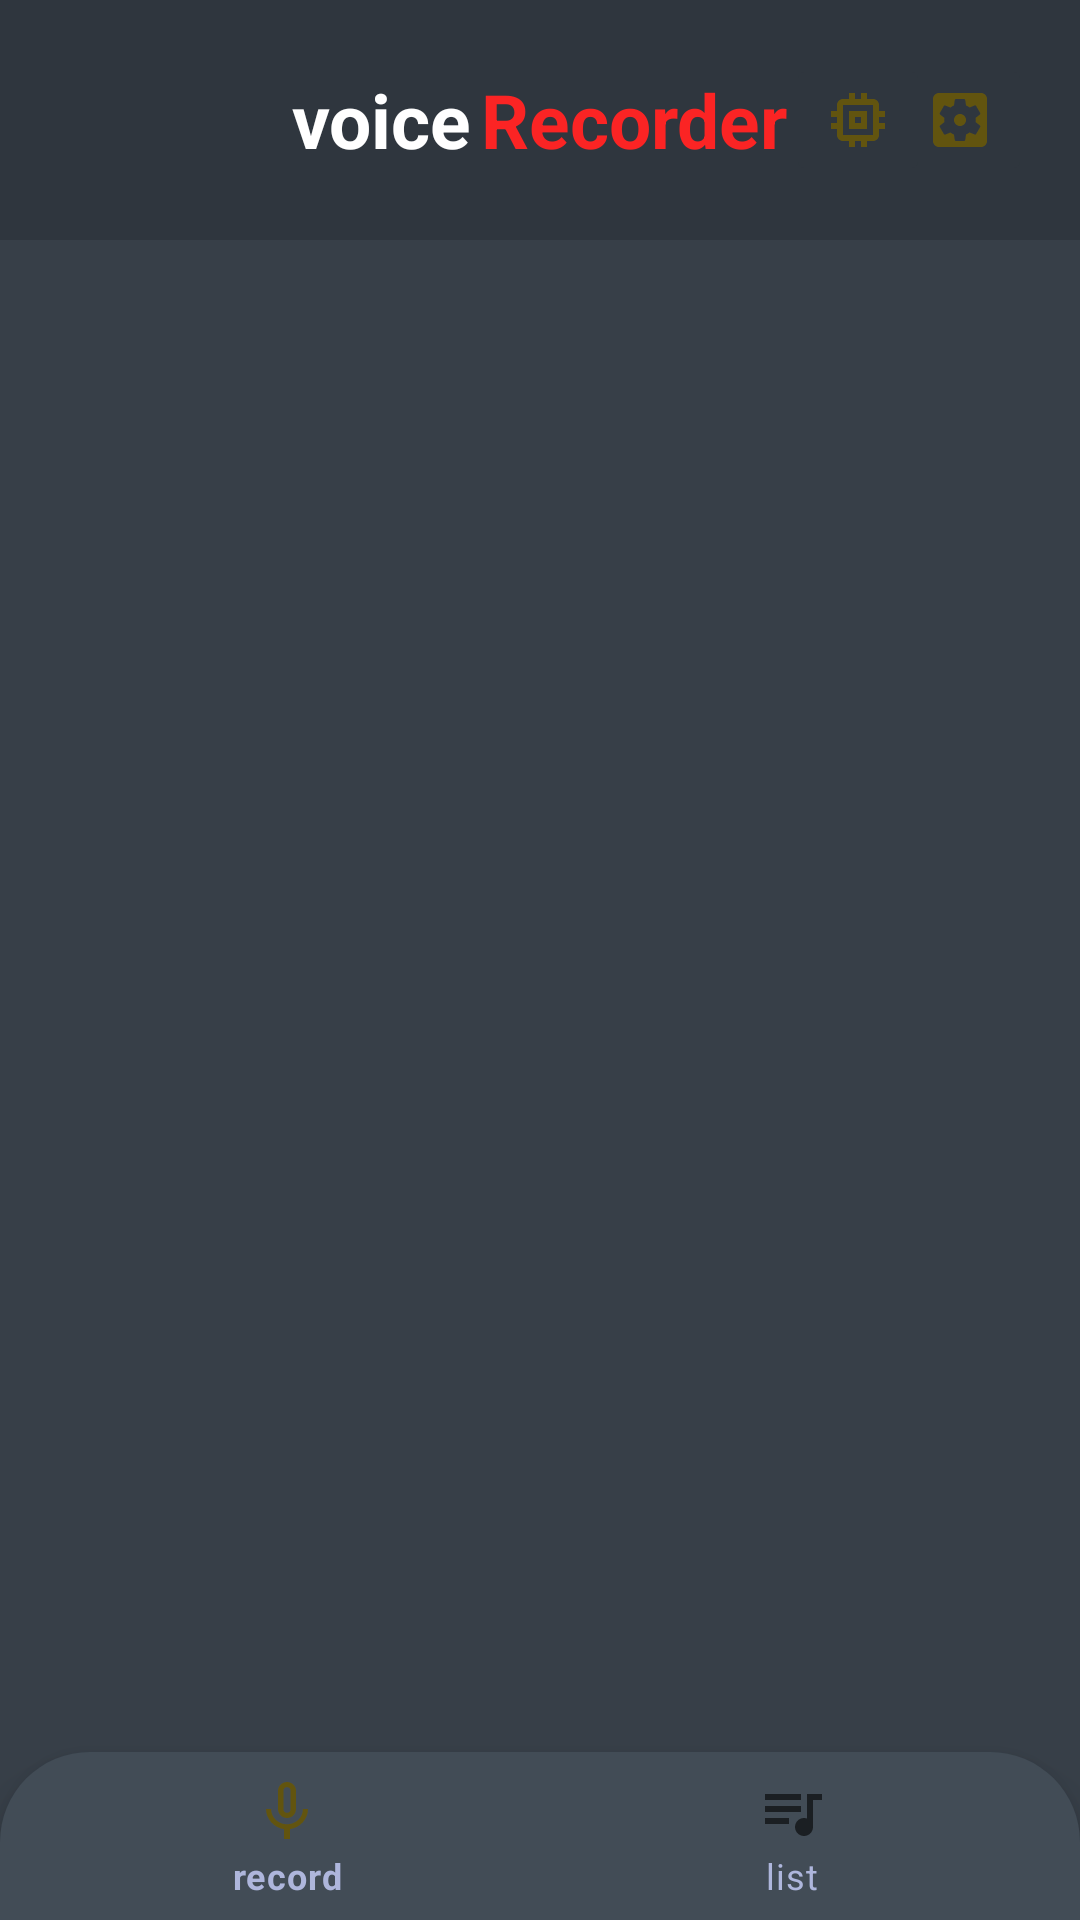

Icon bounding boxes for this 1080w x 1920h phone screenshot, format bbox=(x1, y1, x2, y2):
memory: bbox=(831, 93, 885, 147)
settings applications: bbox=(933, 93, 987, 147)
